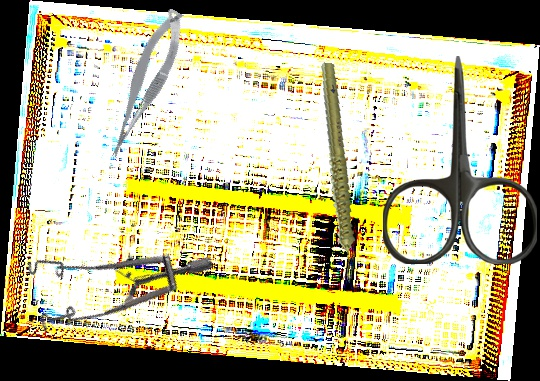Handpiece: (290, 61, 381, 282)
Iris Scissors: (383, 56, 537, 264)
Micro Scissor: (90, 5, 199, 162)
Speculum: (3, 172, 216, 374)
